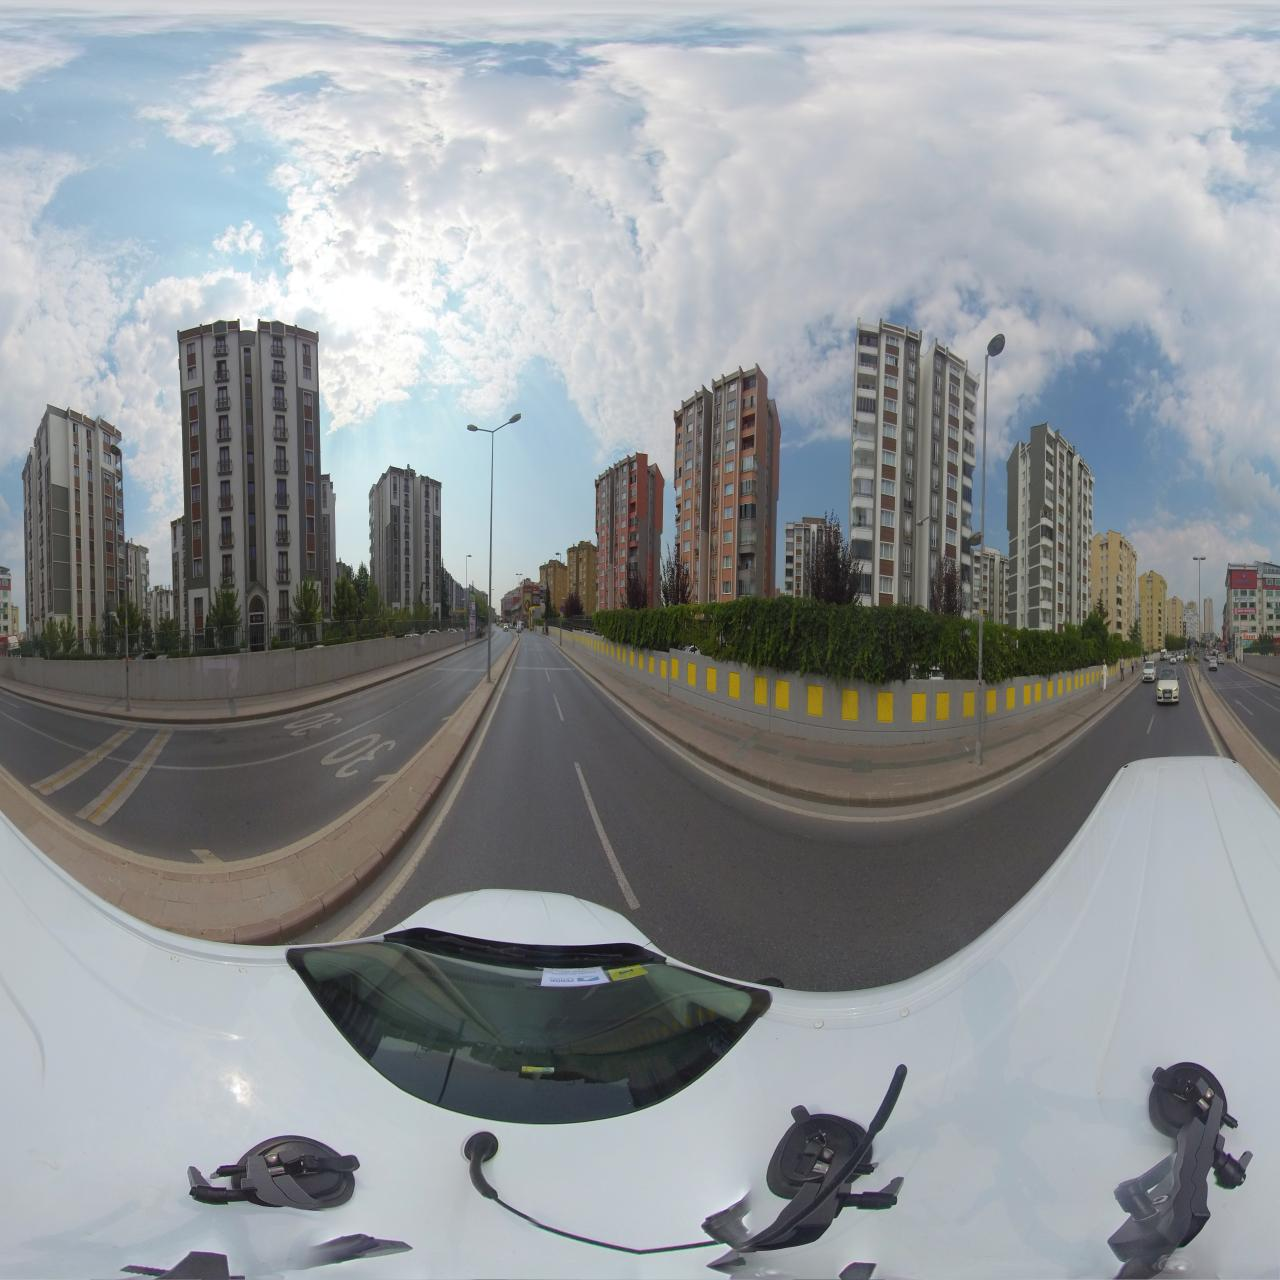SignStore: (1232, 570, 1258, 590), (1240, 607, 1257, 613), (1233, 608, 1240, 614)
